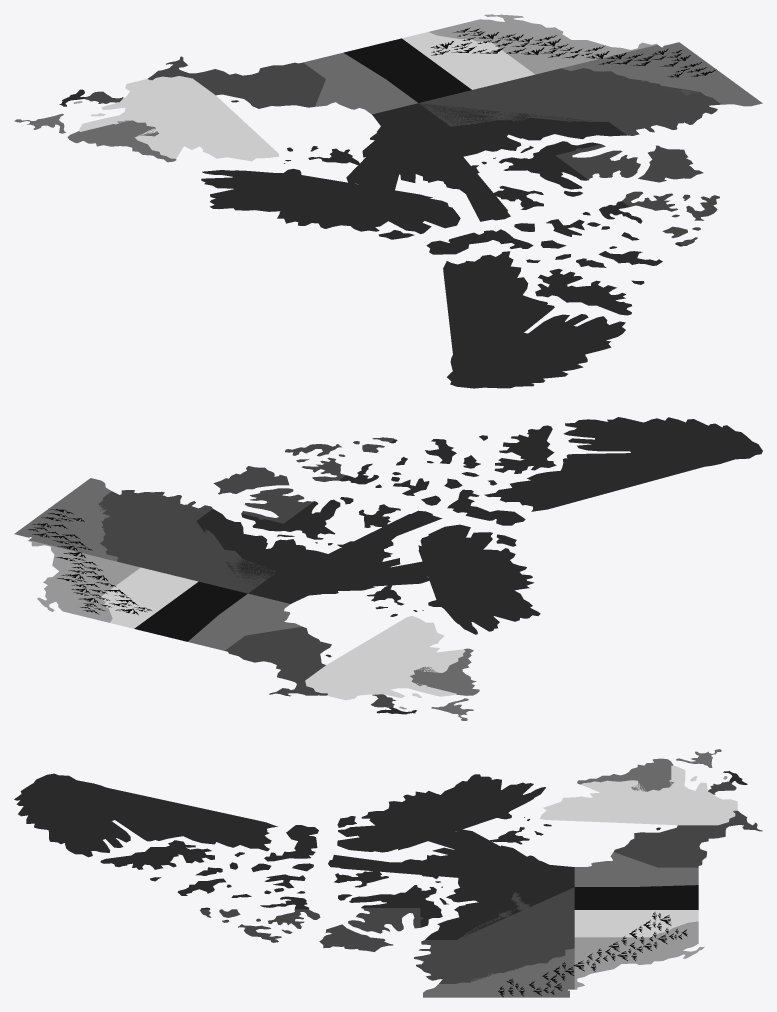
File: Canada_Provinces_2D_V2.fbx
The picture shows the model from 3 angles, top to bottom: view 1: azimuth 30°, elevation 25°; view 2: azimuth 150°, elevation 25°; view 3: azimuth 270°, elevation 25°; orthographic projection. The views are drawn at different scales.
Visible parts, largest first — view 1: Nunavut_2D_V2, Northwest_Territories_2D_V2, Quebec_2D_V2, British_Columbia_2D_V2, Yukon_2D_V2, Ontario_2D_V2, Saskatchewan_2D_V2, Alberta_2D_V2, Manitoba_2D_V2, Newfoundland_And_Labrador_2D_V2, Canada_Mountains_2D_V2; view 2: Nunavut_2D_V2, Northwest_Territories_2D_V2, Quebec_2D_V2, British_Columbia_2D_V2, Yukon_2D_V2, Ontario_2D_V2, Saskatchewan_2D_V2, Alberta_2D_V2, Manitoba_2D_V2, Newfoundland_And_Labrador_2D_V2, Canada_Mountains_2D_V2; view 3: Nunavut_2D_V2, Northwest_Territories_2D_V2, Quebec_2D_V2, British_Columbia_2D_V2, Yukon_2D_V2, Ontario_2D_V2, Alberta_2D_V2, Saskatchewan_2D_V2, Manitoba_2D_V2, Newfoundland_And_Labrador_2D_V2, Canada_Mountains_2D_V2.
Boxes of the visible parts, <box> form: Nunavut_2D_V2: <box>201,100,682,388</box>; Northwest_Territories_2D_V2: <box>419,68,721,245</box>; Quebec_2D_V2: <box>79,76,279,161</box>; British_Columbia_2D_V2: <box>429,14,657,74</box>; Yukon_2D_V2: <box>562,42,762,106</box>; Ontario_2D_V2: <box>147,56,325,108</box>; Saskatchewan_2D_V2: <box>344,38,471,102</box>; Alberta_2D_V2: <box>402,32,534,89</box>; Manitoba_2D_V2: <box>303,52,417,114</box>; Newfoundland_And_Labrador_2D_V2: <box>14,113,176,162</box>; Canada_Mountains_2D_V2: <box>431,27,716,77</box>; Nunavut_2D_V2: <box>196,417,762,657</box>; Northwest_Territories_2D_V2: <box>98,437,394,593</box>; Quebec_2D_V2: <box>305,616,465,700</box>; British_Columbia_2D_V2: <box>28,540,140,622</box>; Yukon_2D_V2: <box>14,478,118,561</box>; Ontario_2D_V2: <box>225,626,331,696</box>; Saskatchewan_2D_V2: <box>134,581,247,641</box>; Alberta_2D_V2: <box>101,567,198,628</box>; Manitoba_2D_V2: <box>188,593,301,650</box>; Newfoundland_And_Labrador_2D_V2: <box>410,648,479,720</box>; Canada_Mountains_2D_V2: <box>27,508,151,614</box>; Nunavut_2D_V2: <box>14,773,660,939</box>; Northwest_Territories_2D_V2: <box>200,887,574,983</box>; Quebec_2D_V2: <box>539,765,737,825</box>; British_Columbia_2D_V2: <box>574,921,704,989</box>; Yukon_2D_V2: <box>423,948,574,997</box>; Ontario_2D_V2: <box>614,810,762,867</box>; Alberta_2D_V2: <box>574,910,698,937</box>; Saskatchewan_2D_V2: <box>574,885,698,909</box>; Manitoba_2D_V2: <box>574,852,698,886</box>; Newfoundland_And_Labrador_2D_V2: <box>577,749,721,791</box>; Canada_Mountains_2D_V2: <box>498,912,687,997</box>.
Bounding box in the file's own units: 1126 × 0.201 × 1431.
